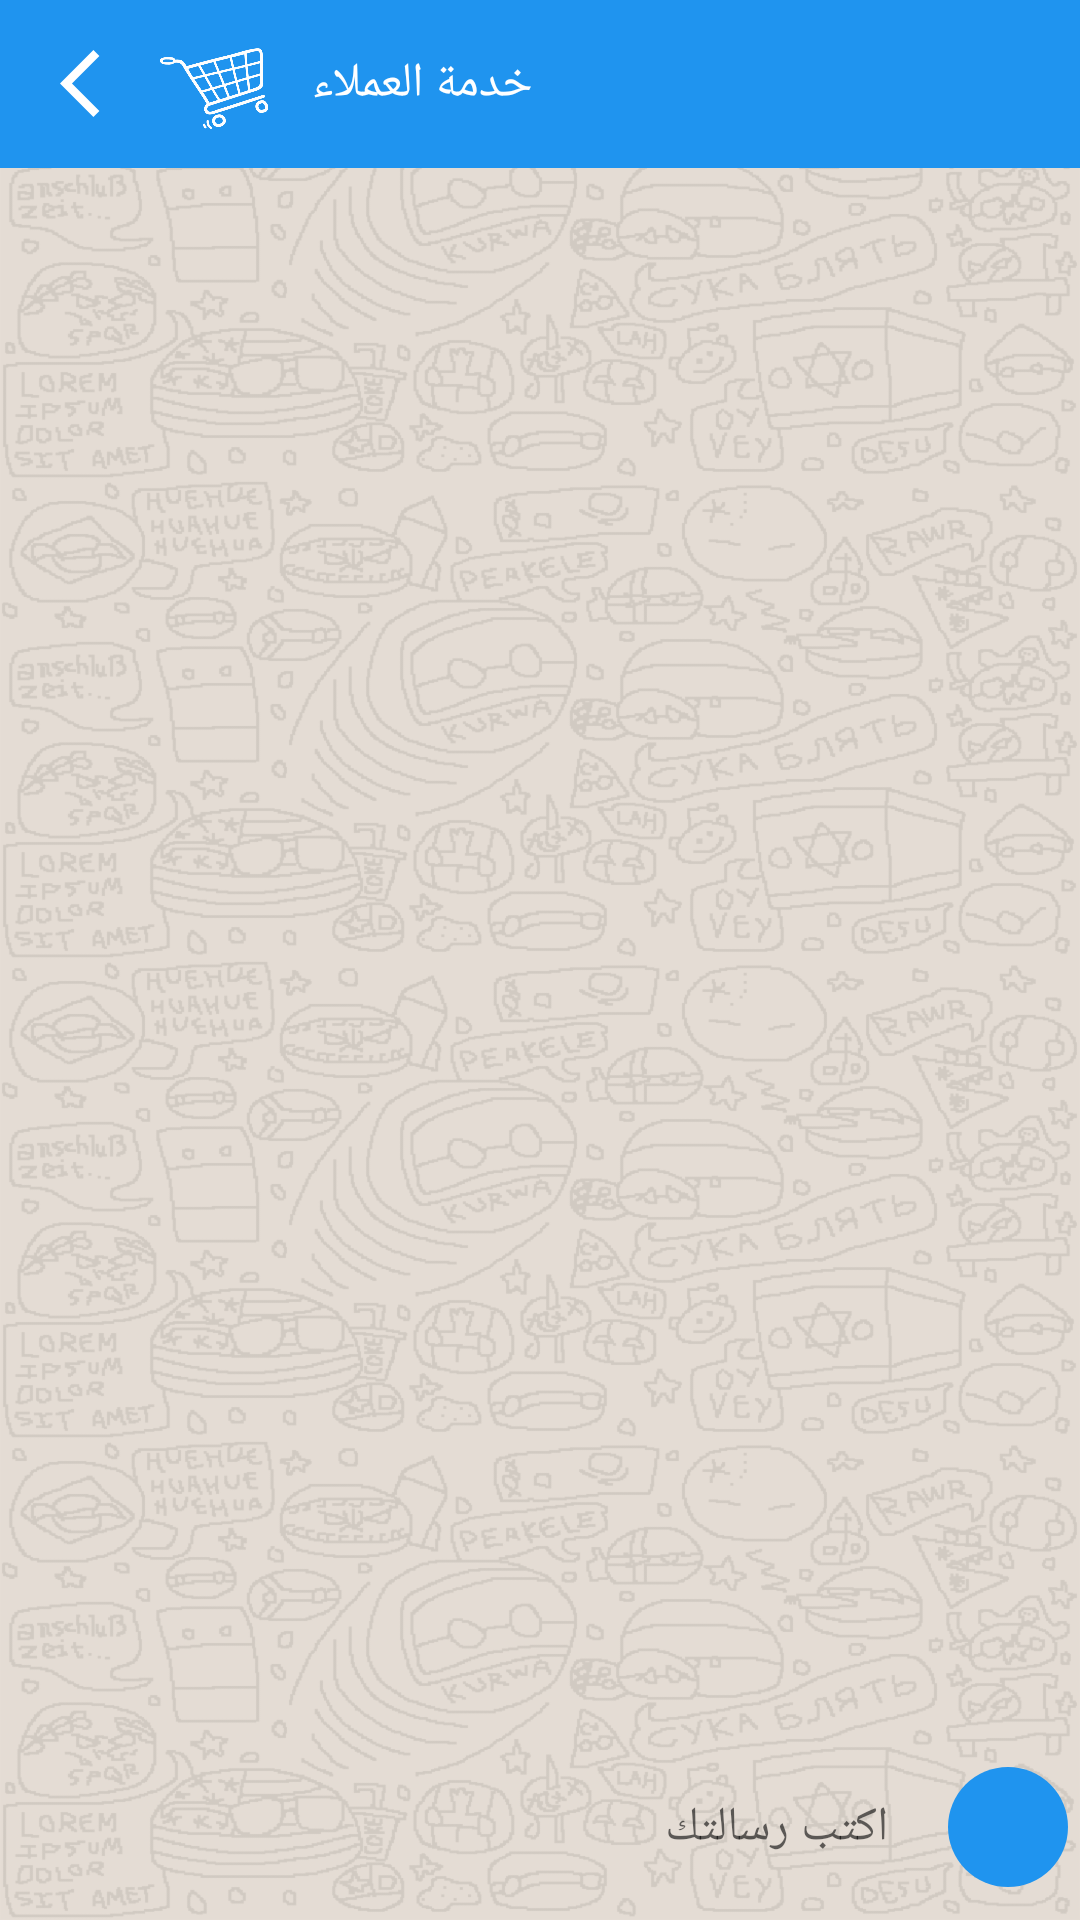

Where to tap for icons on this 1080×1920 app screen, as (x,y):
arrow back: (79,83)
